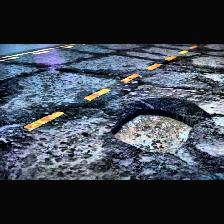pothole: (110, 109, 194, 155)
